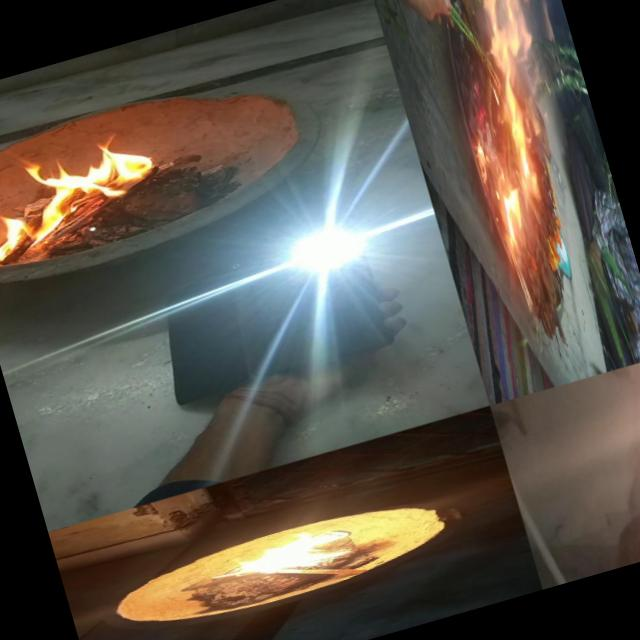fire: (0, 114, 179, 264), (518, 154, 632, 361), (215, 507, 378, 595), (486, 75, 544, 172), (619, 355, 640, 499)
smoke: (448, 0, 509, 78)
